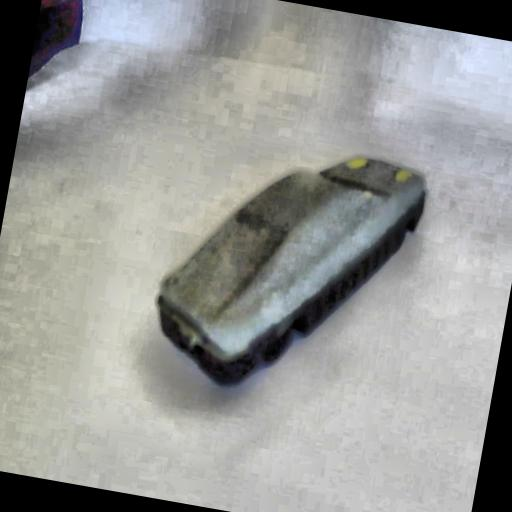normal_car: (138, 120, 432, 417)
